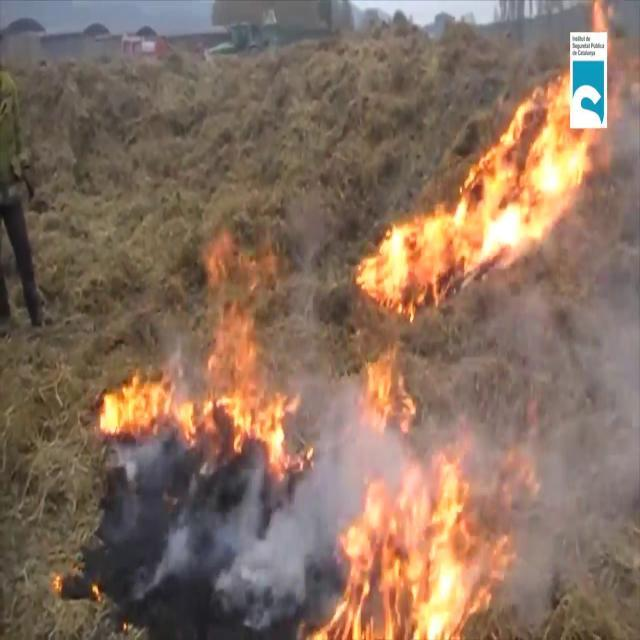Fire: (348, 67, 612, 340), (310, 427, 520, 636), (94, 266, 304, 466)
Smoke: (496, 250, 640, 616), (216, 412, 378, 604)
